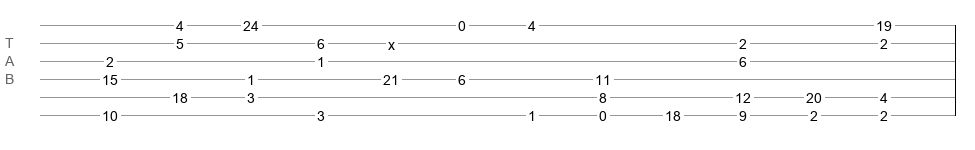0: (458, 18, 466, 28), (599, 108, 607, 118)
1: (247, 72, 255, 82), (317, 54, 325, 64), (528, 108, 536, 118)
10: (102, 108, 118, 118)
11: (595, 72, 611, 82)
12: (735, 90, 751, 100)
15: (102, 72, 118, 82)
18: (172, 90, 188, 100), (665, 108, 681, 118)
19: (876, 18, 892, 28)
2: (106, 54, 114, 64), (739, 36, 747, 46), (810, 108, 818, 118), (880, 36, 888, 46), (880, 108, 888, 118)
20: (806, 90, 822, 100)
21: (383, 72, 399, 82)
24: (243, 18, 259, 28)
3: (247, 90, 255, 100), (317, 108, 325, 118)
4: (176, 18, 184, 28), (528, 18, 536, 28), (880, 90, 888, 100)
5: (176, 36, 184, 46)
6: (317, 36, 325, 46), (458, 72, 466, 82), (739, 54, 747, 64)
8: (599, 90, 607, 100)
9: (739, 108, 747, 118)
x: (388, 37, 395, 45)
